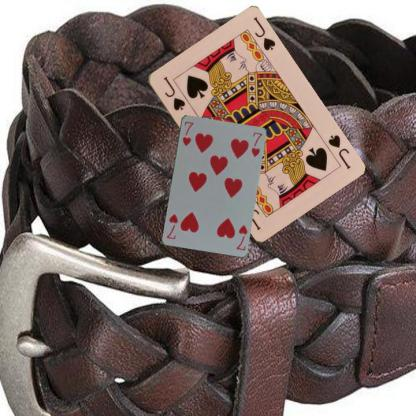7h: (234, 222, 249, 251), (180, 118, 194, 147)
Js: (160, 73, 187, 112), (325, 132, 352, 170)
